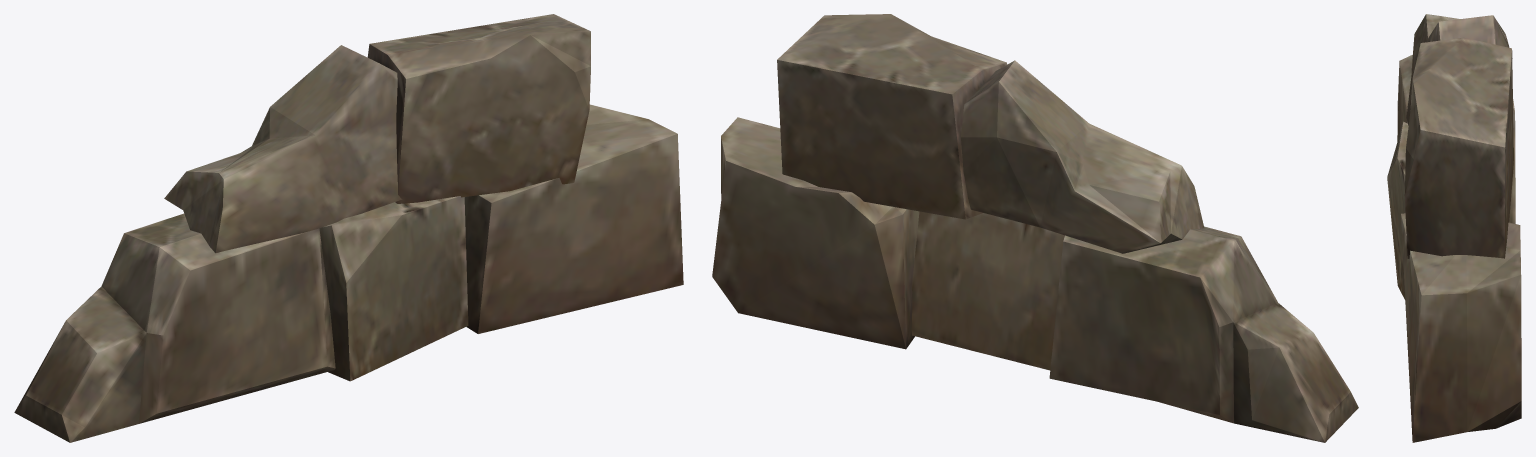
Rendered from nashgar_object_ruinswall_d.FBX.
3 renders of one model, left to right at view 1: azimuth 30°, elevation 25°; view 2: azimuth 150°, elevation 25°; view 3: azimuth 270°, elevation 25°, orthographic.
Visible parts, largest first — view 1: nashgar_object_ruinswall_d; view 2: nashgar_object_ruinswall_d; view 3: nashgar_object_ruinswall_d.
Boxes of the visible parts, box(x1,y1,x2,y2) form: nashgar_object_ruinswall_d: box(14, 14, 683, 442); nashgar_object_ruinswall_d: box(712, 14, 1358, 442); nashgar_object_ruinswall_d: box(1387, 14, 1521, 442).
Size of the model in its own units: 5.08 by 2.27 by 0.947.
